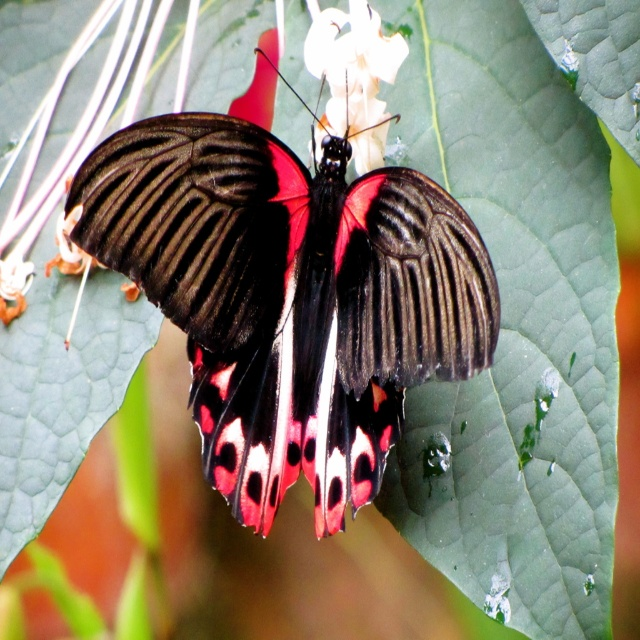Butterfly: (50, 35, 502, 538)
